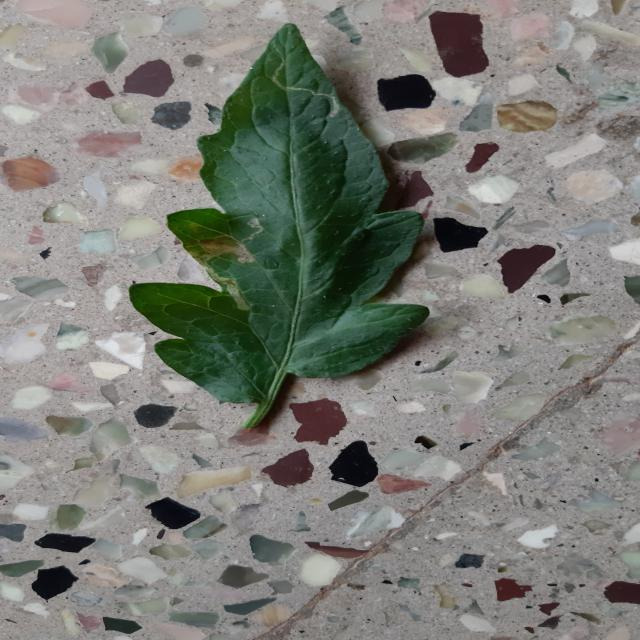defectedtomato: (167, 209, 271, 295)
tomato: (129, 24, 429, 428)
